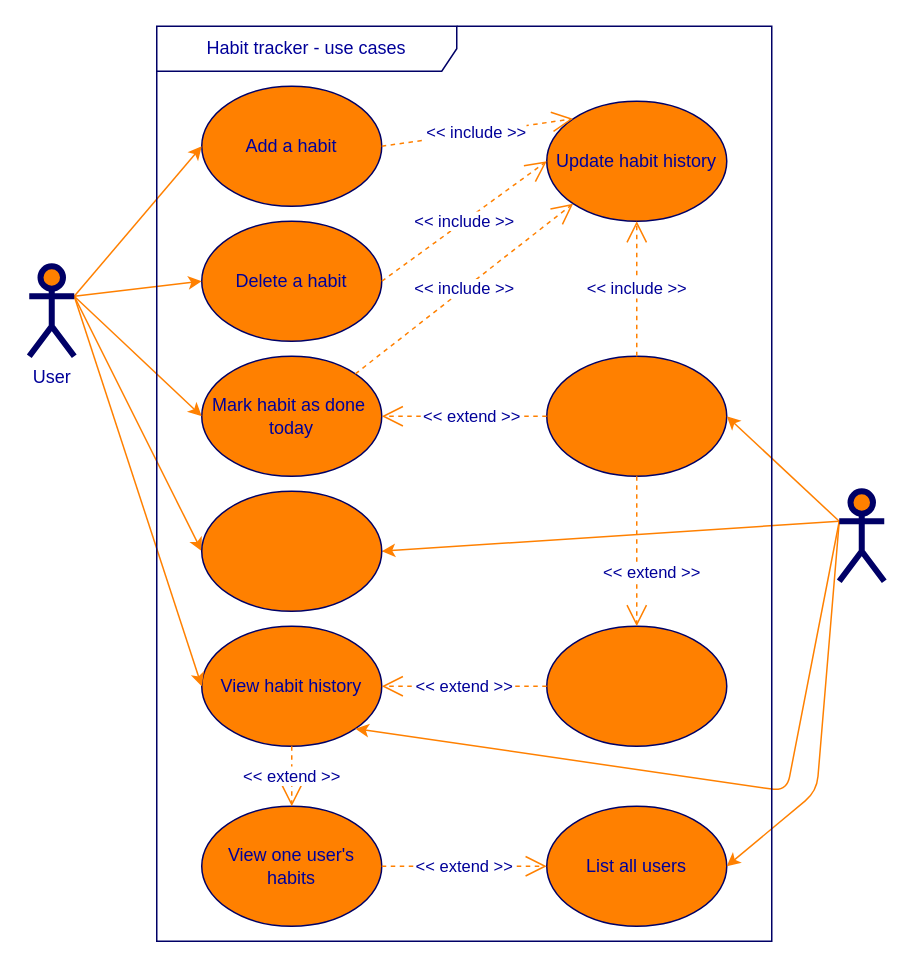
Image size: 914x968. Some labels were removed from this diagram. Here are the shapes that lost their labels. From the top down, the box of each, then its label:
(545, 355, 727, 476): Add a comment
(200, 490, 382, 611): List habits
(836, 488, 886, 584): Coach
(545, 625, 727, 746): View single habit check-in
